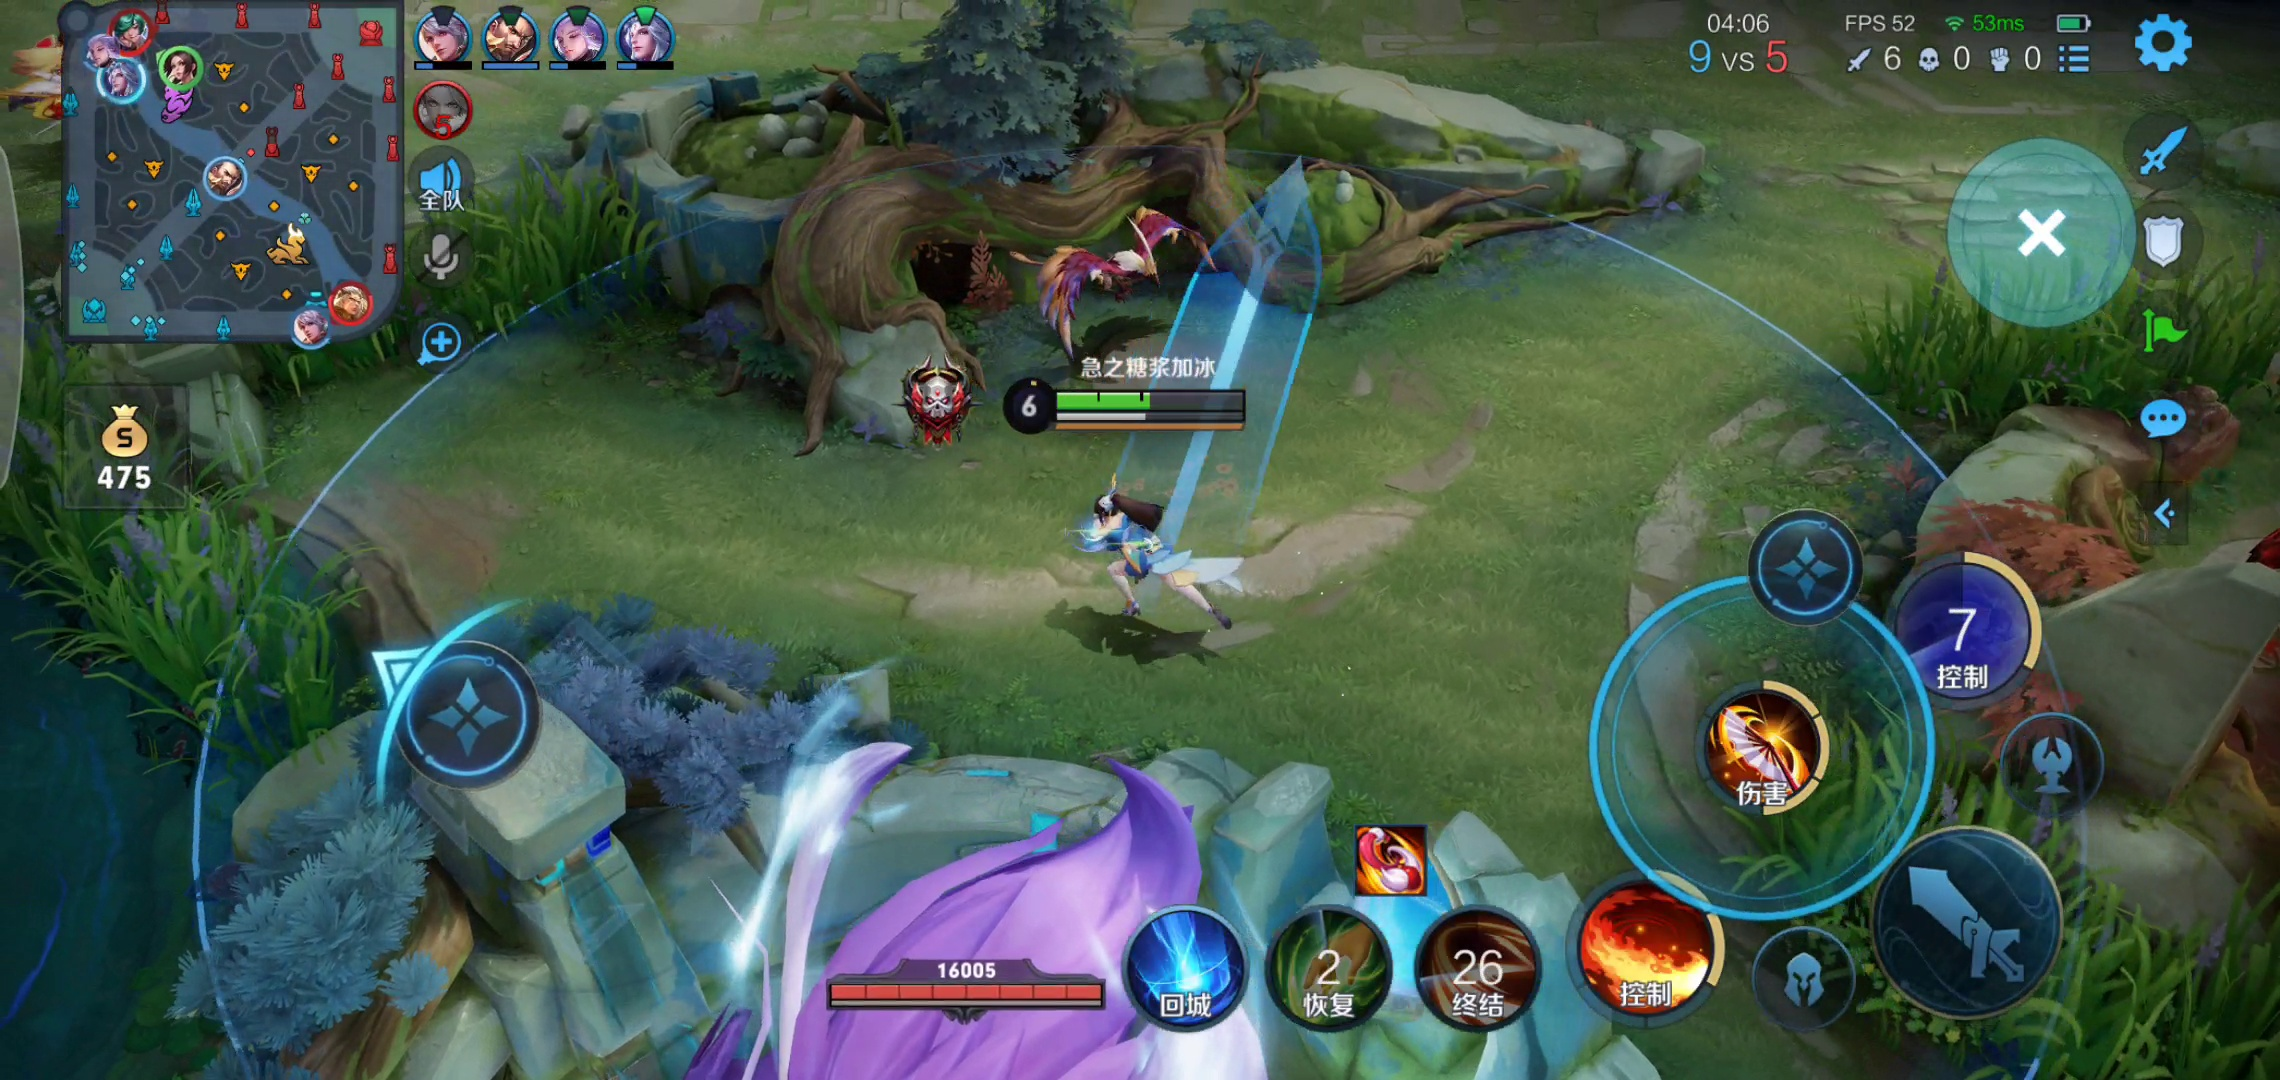dragon: (646, 741, 1245, 1080)
grass: (1730, 736, 2268, 1080), (1, 358, 345, 743), (1839, 278, 2277, 414), (403, 188, 651, 340)
hero: (1059, 467, 1269, 651)
wild_monster: (1000, 201, 1221, 342)
